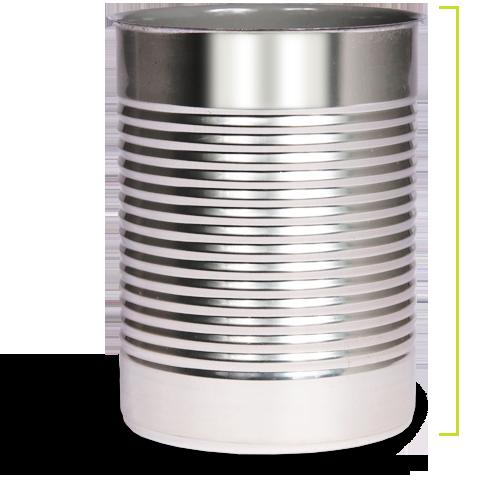metal: (106, 3, 426, 473)
